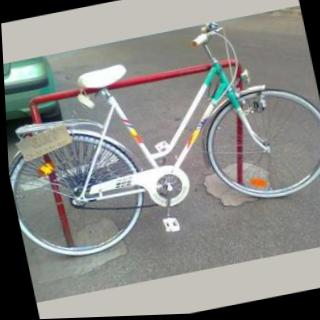Bike: (1, 13, 320, 259)
Car-Bike: (3, 54, 62, 124)
